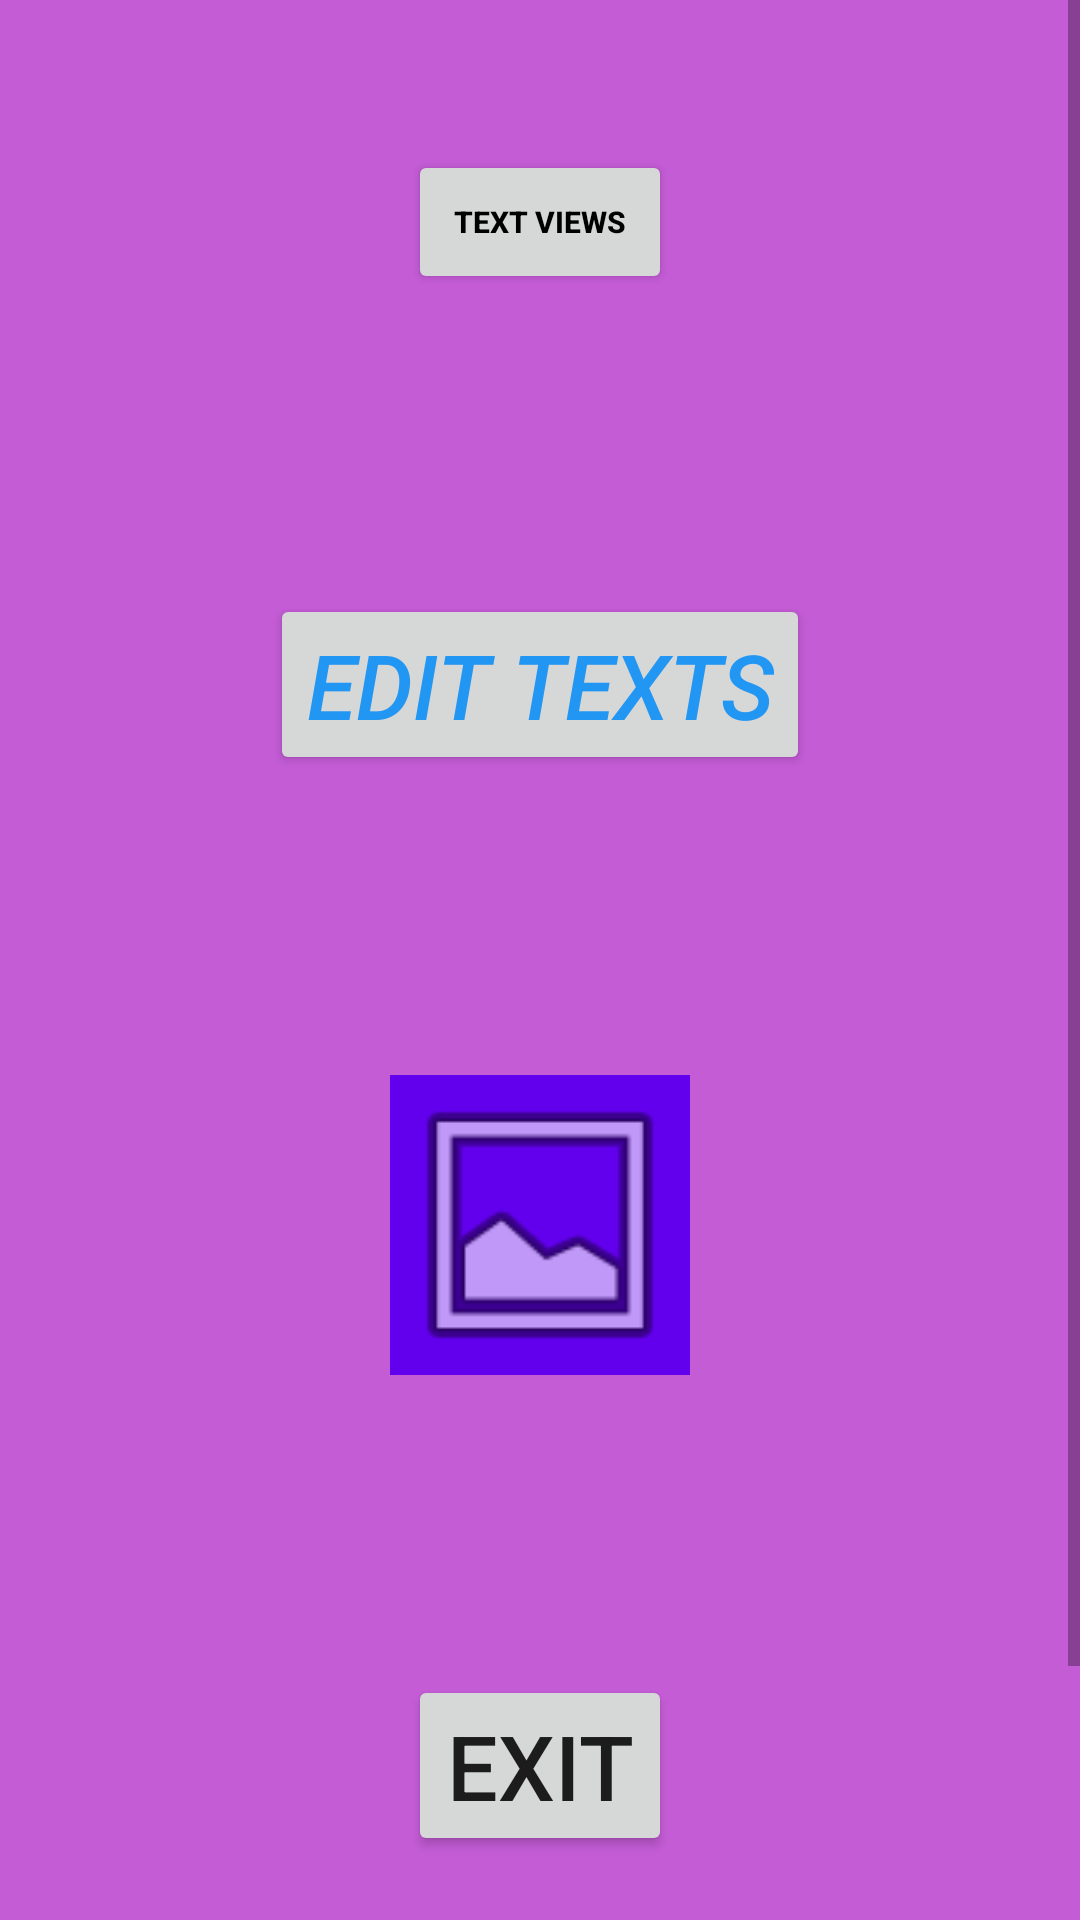

Screen size 1080x1920. Icon name, then its box in pixels as (x1, y1, x2, y2):
gallery: (390, 1075, 690, 1375)
